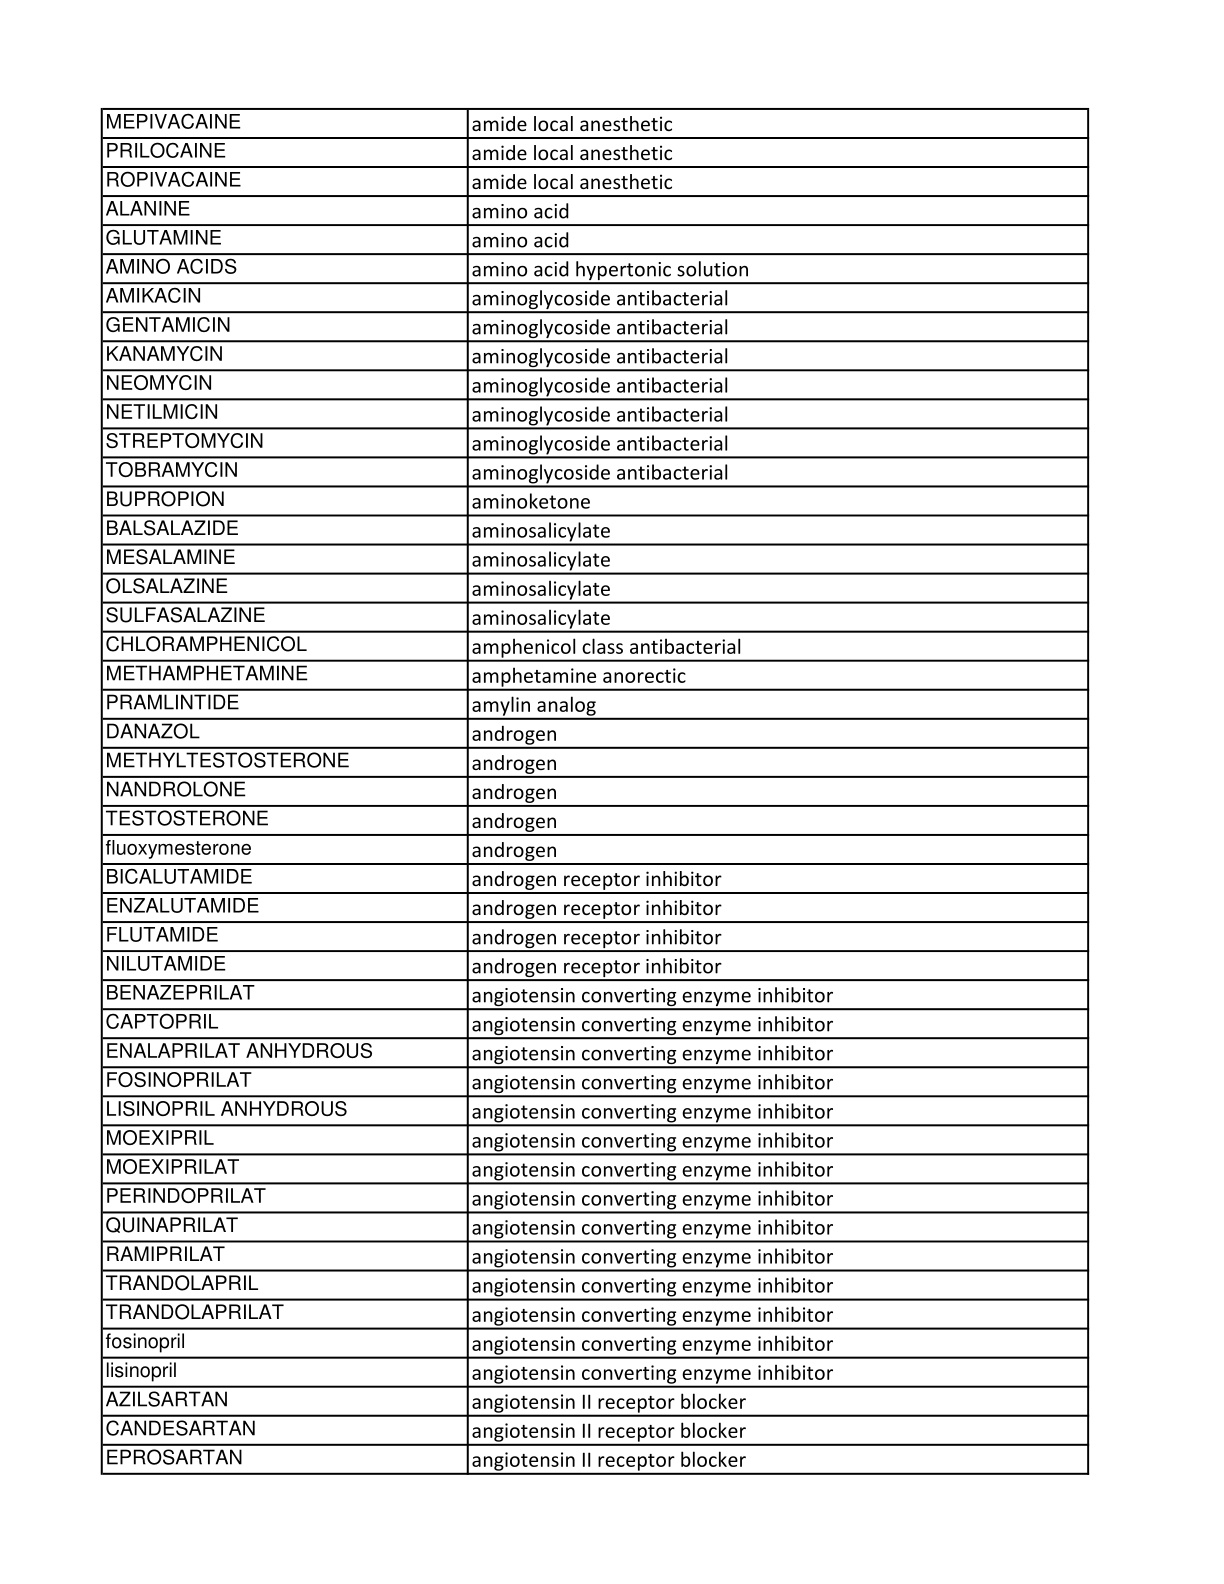full_lined: (100, 107, 1090, 1476)
